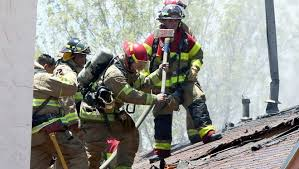emergent: (146, 5, 223, 139), (90, 50, 149, 169), (58, 40, 90, 167), (34, 55, 68, 169)
